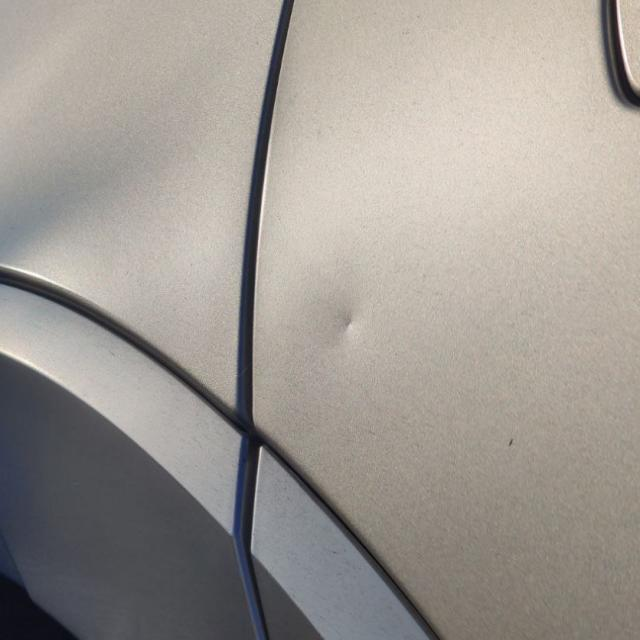dents: (320, 287, 383, 371)
